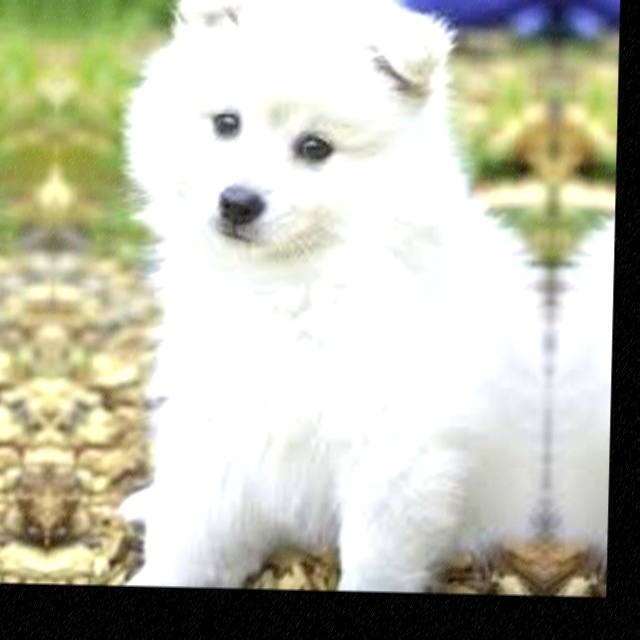dog: (116, 0, 457, 271)
